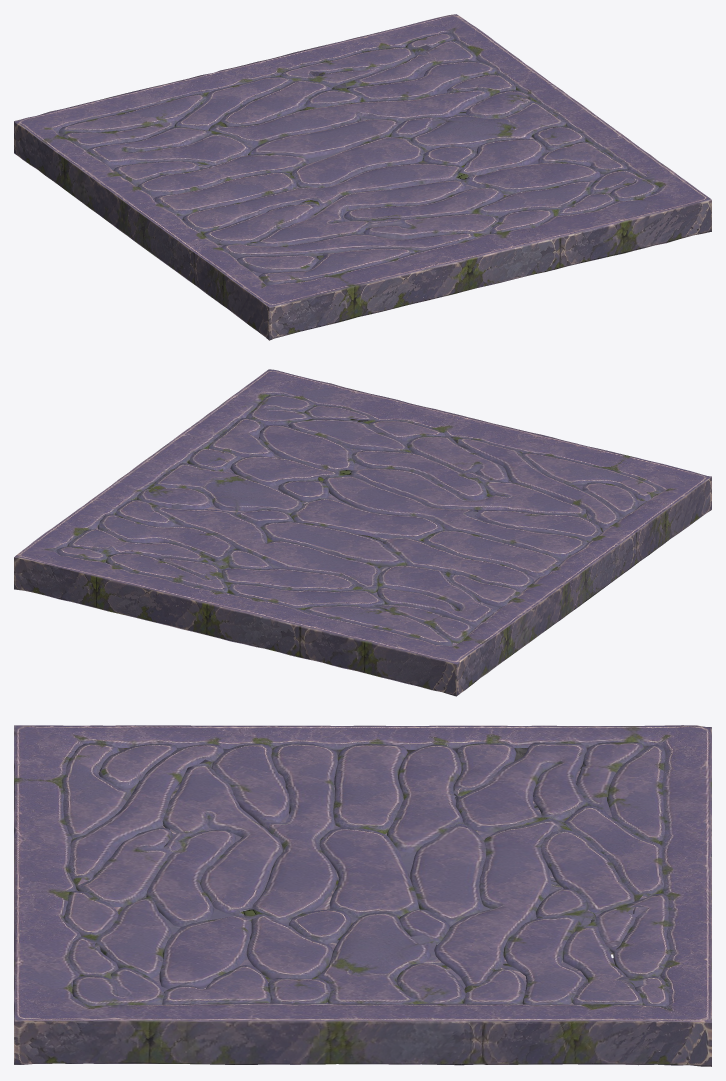
File: flagstone-deck-v2.glb
3 views of the same model, one above another, from view 1: azimuth 30°, elevation 25°; view 2: azimuth 150°, elevation 25°; view 3: azimuth 270°, elevation 25° (orthographic). The views are drawn at different scales.
Bounding box in the file's own units: 1 × 0.076 × 1.
1 material, 1 textured.
